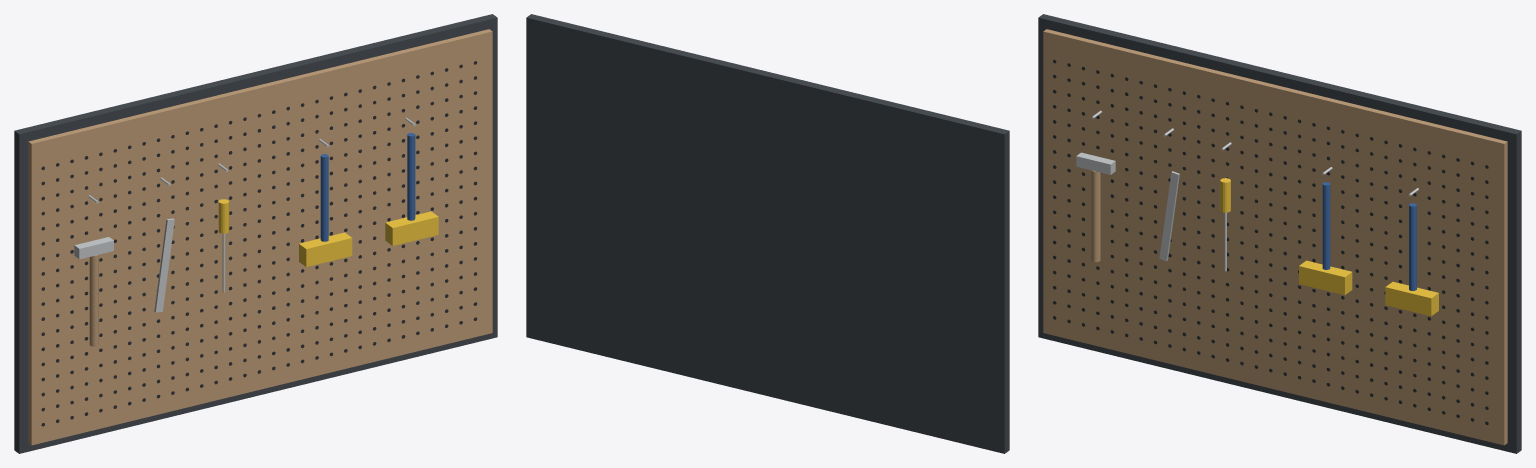
File: Env_ToolWall.fbx
3 views of the same model, side by side, from view 1: azimuth 30°, elevation 25°; view 2: azimuth 150°, elevation 25°; view 3: azimuth 330°, elevation 25° (orthographic).
Visible parts, largest first — view 1: Env_ToolWall_Board, Env_ToolWall_Frame, Env_ToolWall_Holes, Env_Tool_BrushHead0, Env_Tool_BrushHead1, Env_Tool_HammerHandle, Env_Tool_Wrench, Env_Tool_BrushHandle1, Env_Tool_BrushHandle0, Env_Tool_HammerHead; view 2: Env_ToolWall_Frame; view 3: Env_ToolWall_Board, Env_ToolWall_Frame, Env_ToolWall_Holes, Env_Tool_BrushHead0, Env_Tool_BrushHead1, Env_Tool_HammerHandle, Env_Tool_Wrench, Env_Tool_BrushHandle0, Env_Tool_BrushHandle1, Env_Tool_HammerHead.
Boxes of the visible parts, x1,y1,x2,y2 form: Env_ToolWall_Board: (28, 29, 492, 445); Env_ToolWall_Frame: (14, 14, 497, 453); Env_ToolWall_Holes: (41, 61, 477, 426); Env_Tool_BrushHead0: (299, 232, 352, 266); Env_Tool_BrushHead1: (385, 211, 438, 245); Env_Tool_HammerHandle: (89, 254, 98, 346); Env_Tool_Wrench: (154, 218, 174, 312); Env_Tool_BrushHandle1: (407, 133, 415, 220); Env_Tool_BrushHandle0: (320, 154, 328, 241); Env_Tool_HammerHead: (74, 237, 113, 259); Env_ToolWall_Frame: (526, 14, 1009, 453); Env_ToolWall_Board: (1043, 29, 1507, 445); Env_ToolWall_Frame: (1038, 14, 1521, 453); Env_ToolWall_Holes: (1053, 59, 1488, 424); Env_Tool_BrushHead0: (1299, 260, 1352, 295); Env_Tool_BrushHead1: (1385, 281, 1438, 316); Env_Tool_HammerHandle: (1091, 170, 1100, 262); Env_Tool_Wrench: (1159, 171, 1179, 261); Env_Tool_BrushHandle0: (1322, 182, 1330, 269); Env_Tool_BrushHandle1: (1409, 203, 1416, 290); Env_Tool_HammerHead: (1076, 152, 1115, 174).
Bounding box in the file's own units: 1.66 × 1.06 × 0.1095.
